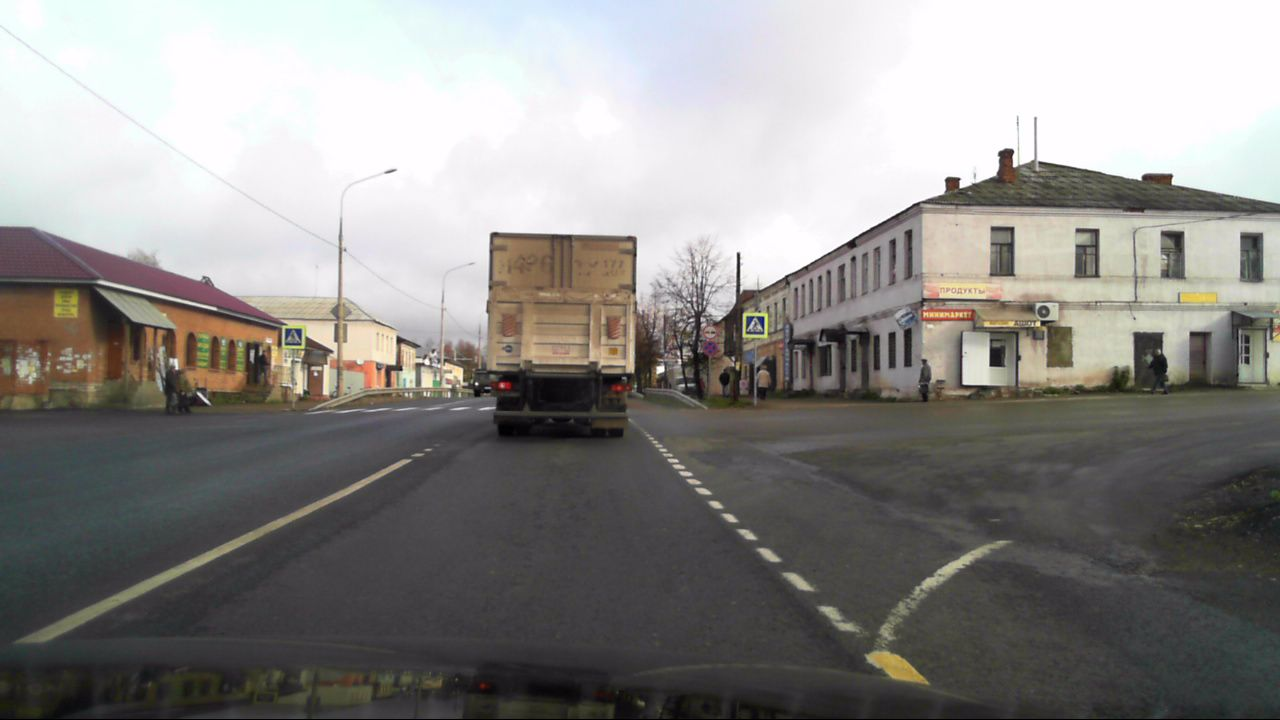No Parking: (702, 340, 718, 356)
